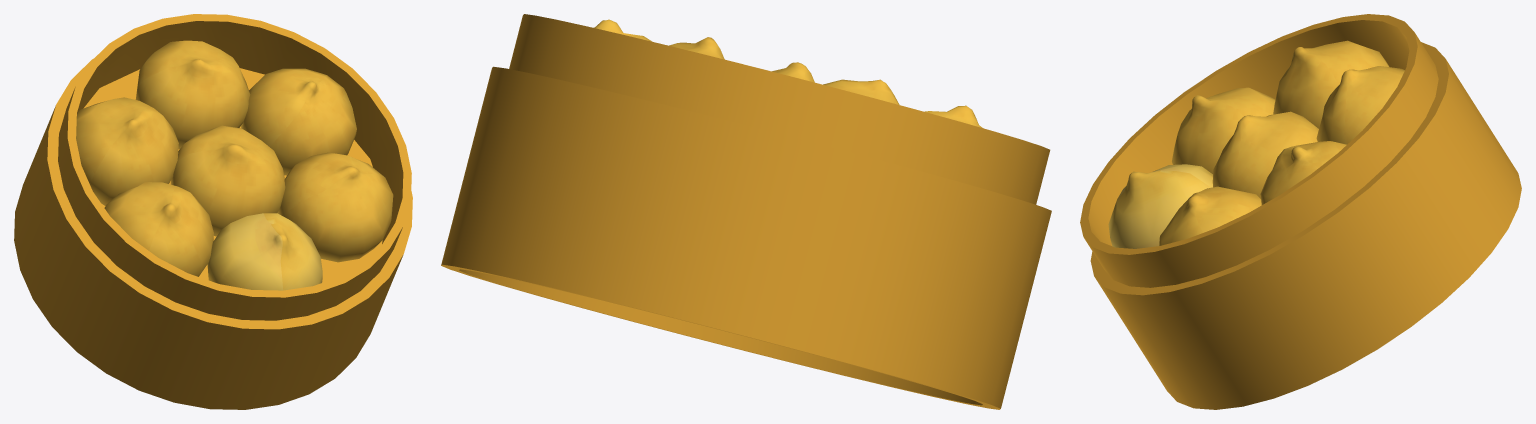
Rendered from ref_bfxiaolongbao.fbx.
3 renders of one model, left to right at view 1: azimuth 30°, elevation 25°; view 2: azimuth 150°, elevation 25°; view 3: azimuth 270°, elevation 25°, orthographic. The views are drawn at different scales.
Visible parts, largest first — view 1: ref_bfxiaolongbao; view 2: ref_bfxiaolongbao; view 3: ref_bfxiaolongbao.
Boxes of the visible parts, x1,y1,x2,y2 form: ref_bfxiaolongbao: [14, 14, 412, 409]; ref_bfxiaolongbao: [441, 14, 1051, 409]; ref_bfxiaolongbao: [1080, 14, 1521, 409].
Size of the model in its own units: 93.62 by 82.2 by 100.
